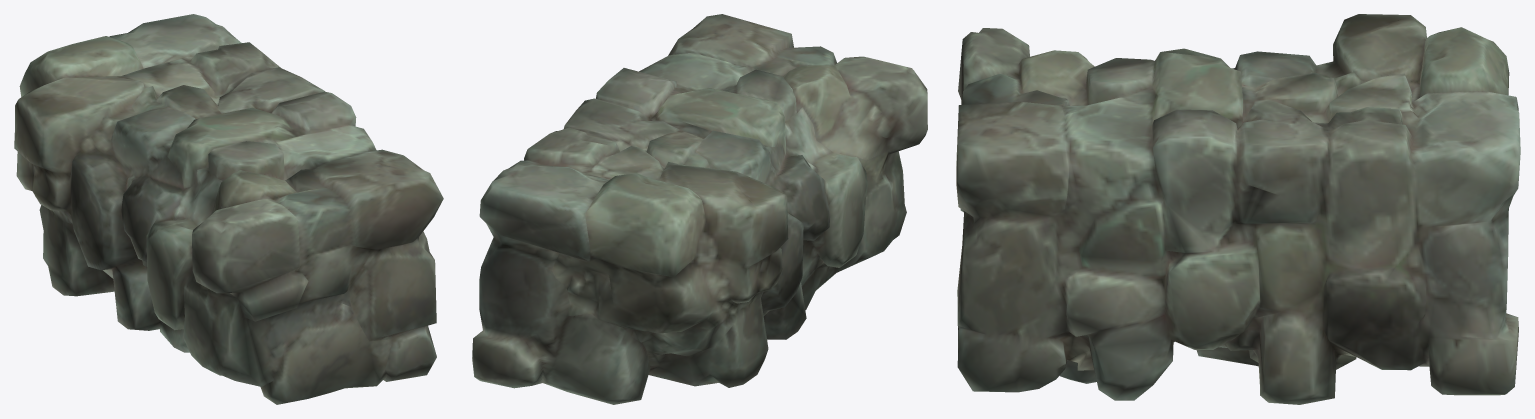
The model's file is Wall_Cnr_B.fbx.
3 views of the same model, side by side, from view 1: azimuth 30°, elevation 25°; view 2: azimuth 150°, elevation 25°; view 3: azimuth 270°, elevation 25° (orthographic). The views are drawn at different scales.
Visible parts, largest first — view 1: Wall_Cnr_B; view 2: Wall_Cnr_B; view 3: Wall_Cnr_B.
Part boxes in pixels (x1=…): Wall_Cnr_B: x1=14, y1=14, x2=443, y2=404; Wall_Cnr_B: x1=472, y1=14, x2=927, y2=404; Wall_Cnr_B: x1=956, y1=14, x2=1520, y2=404.
Size of the model in its own units: 504 by 445 by 809.
